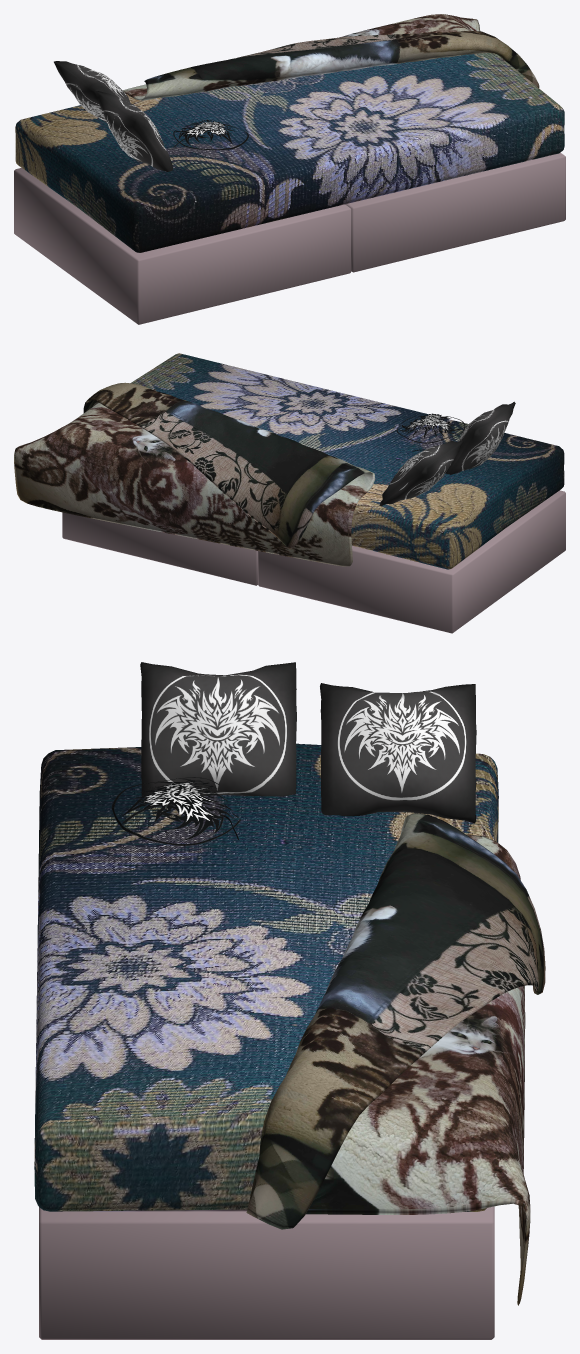
File: Bed.fbx
3 renders of one model, top to bottom at view 1: azimuth 30°, elevation 25°; view 2: azimuth 150°, elevation 25°; view 3: azimuth 270°, elevation 25°, orthographic. The views are drawn at different scales.
Visible parts, largest first — view 1: SM_Mattress01, SM_BedFrame01, SM_BedFrame02, SM_Blanket01, SM_Pillow02, SM_Pillow01, SM_Pillow03; view 2: SM_Blanket01, SM_Mattress01, SM_BedFrame01, SM_BedFrame02, SM_Pillow01, SM_Pillow02, SM_Pillow03; view 3: SM_Mattress01, SM_Blanket01, SM_BedFrame02, SM_Pillow01, SM_Pillow02, SM_Pillow03.
Boxes of the visible parts, left/top/right/bottom form: SM_Mattress01: left=15, top=53, right=564, bottom=252; SM_BedFrame01: left=14, top=168, right=351, bottom=324; SM_BedFrame02: left=345, top=152, right=565, bottom=272; SM_Blanket01: left=122, top=14, right=539, bottom=100; SM_Pillow02: left=95, top=91, right=172, bottom=171; SM_Pillow01: left=54, top=61, right=130, bottom=122; SM_Pillow03: left=173, top=119, right=248, bottom=163; SM_Blanket01: left=14, top=382, right=375, bottom=566; SM_Mattress01: left=130, top=353, right=564, bottom=569; SM_BedFrame01: left=258, top=490, right=565, bottom=633; SM_BedFrame02: left=62, top=512, right=257, bottom=585; SM_Pillow01: left=379, top=440, right=463, bottom=506; SM_Pillow02: left=445, top=401, right=515, bottom=474; SM_Pillow03: left=396, top=413, right=465, bottom=451; SM_Mattress01: left=34, top=743, right=498, bottom=1211; SM_Blanket01: left=246, top=813, right=545, bottom=1305; SM_BedFrame02: left=39, top=1206, right=494, bottom=1339; SM_Pillow01: left=320, top=683, right=476, bottom=823; SM_Pillow02: left=140, top=662, right=296, bottom=798; SM_Pillow03: left=111, top=777, right=240, bottom=845.
Bounding box in the file's own units: 688 × 247 × 353.
